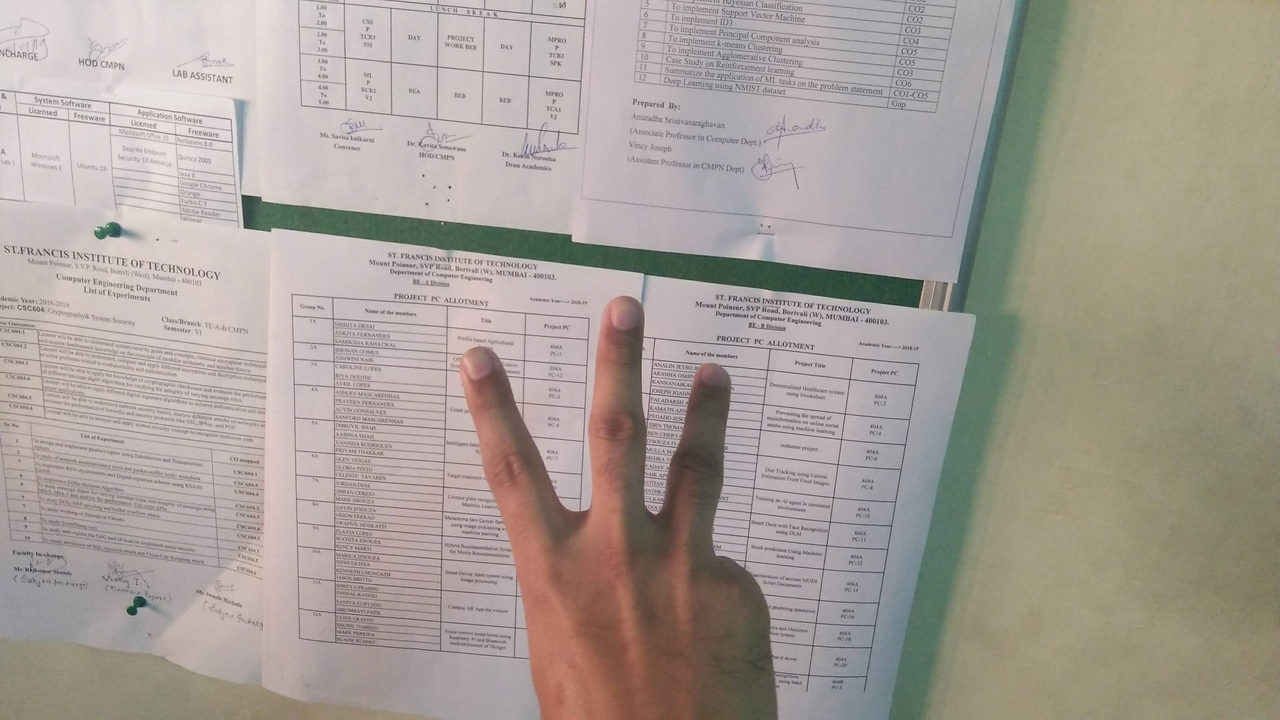fingertip: (592, 290, 646, 346), (448, 348, 506, 398), (684, 358, 734, 406)
